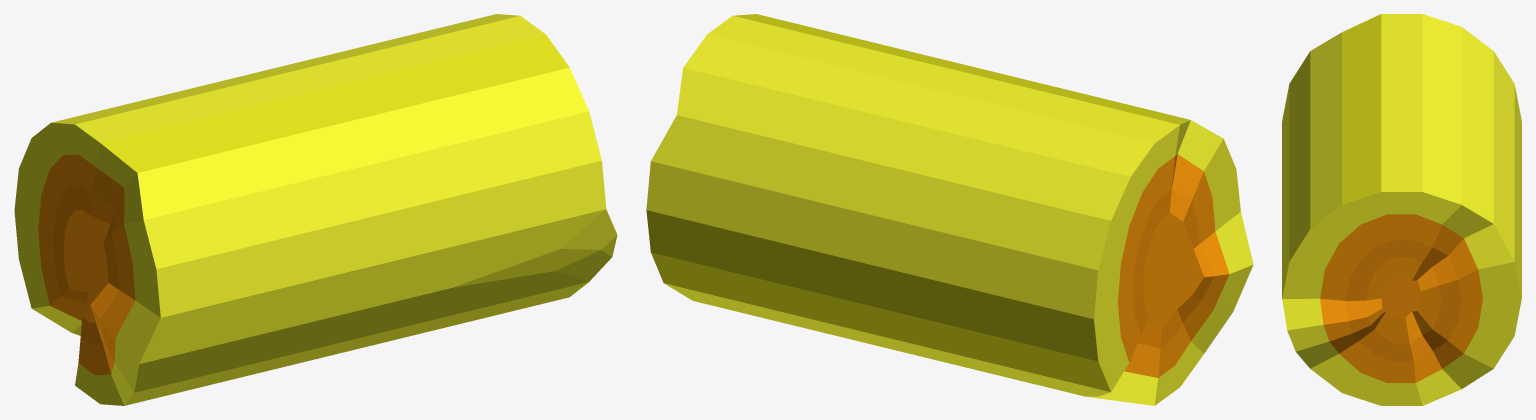
The model's file is Broken log_18.fbx.
3 renders of one model, left to right at view 1: azimuth 30°, elevation 25°; view 2: azimuth 150°, elevation 25°; view 3: azimuth 270°, elevation 25°, orthographic. The views are drawn at different scales.
Visible parts, largest first — view 1: Circle.313; view 2: Circle.313; view 3: Circle.313.
Part boxes in pixels (bbox=[...]): Circle.313: bbox=[14, 14, 617, 405]; Circle.313: bbox=[646, 14, 1253, 405]; Circle.313: bbox=[1282, 14, 1521, 405].
Size of the model in its own units: 48.11 by 25.19 by 25.57.
